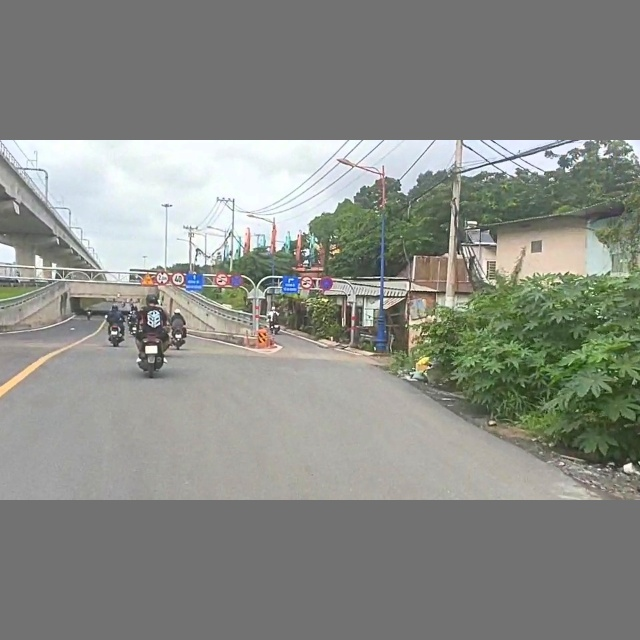P.107: (300, 275, 313, 289), (215, 273, 229, 285)
P.117*: (155, 271, 170, 285)
P.127*40: (171, 271, 185, 285)
P.130: (320, 276, 333, 291), (230, 274, 243, 288)
W.239b*: (139, 272, 155, 285)
